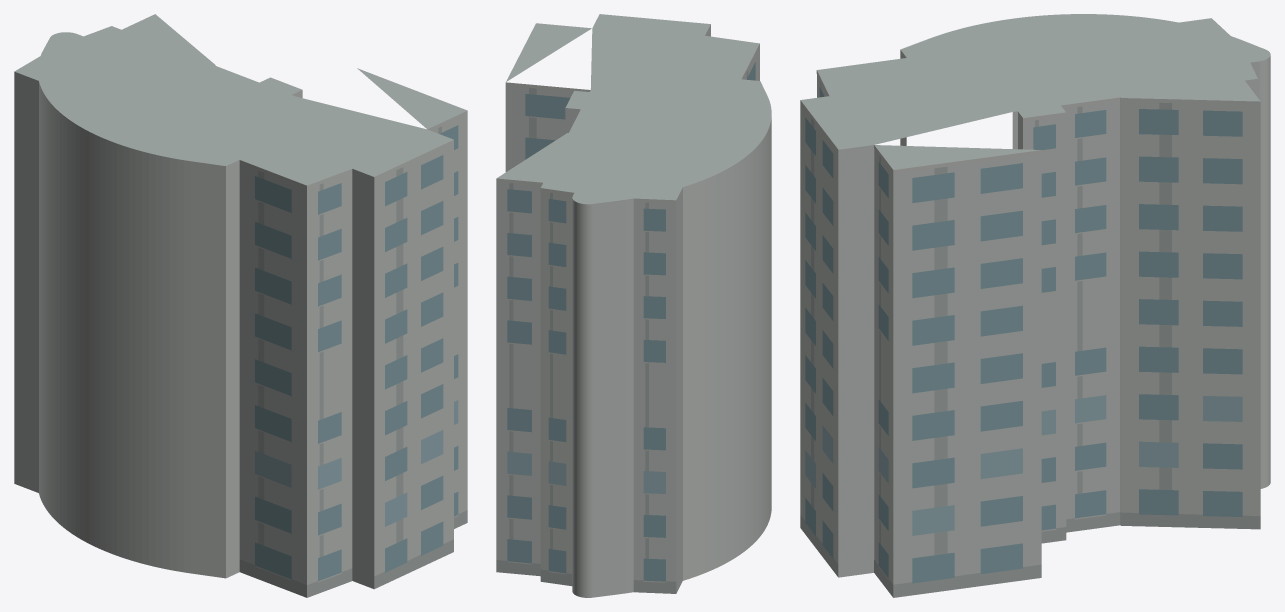
File: survey-upis-32919549.glb
3 renders of one model, left to right at view 1: azimuth 30°, elevation 25°; view 2: azimuth 150°, elevation 25°; view 3: azimuth 270°, elevation 25°, orthographic. The views are drawn at different scales.
Parts seen in each view (by area): view 1: survey-upis-32919549.tmp; view 2: survey-upis-32919549.tmp; view 3: survey-upis-32919549.tmp.
Part boxes in pixels (bbox=[...]): survey-upis-32919549.tmp: bbox=[14, 14, 467, 597]; survey-upis-32919549.tmp: bbox=[496, 14, 771, 597]; survey-upis-32919549.tmp: bbox=[800, 14, 1270, 597].
Size of the model in its own units: 21.48 by 27.45 by 27.35.
